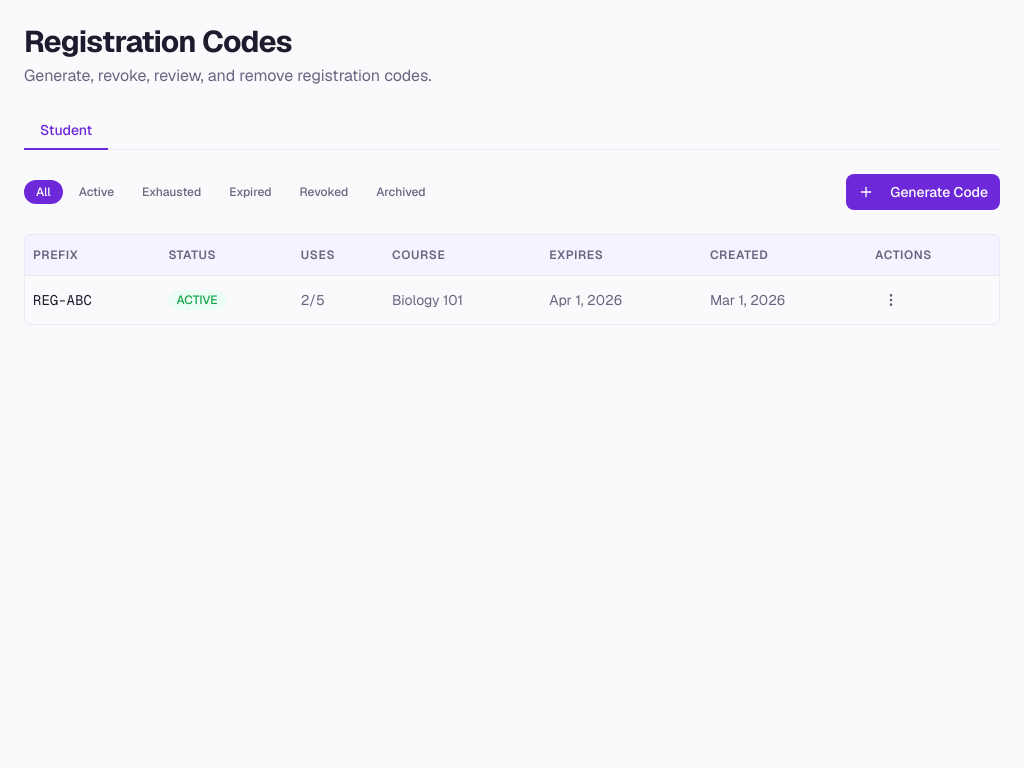
it: CodeManagementView › detail dialog opens with correct data
The width and height of the screenshot is (1024, 768).
Step 1. Click the 9th button → (891, 300), box [875,284,907,316]
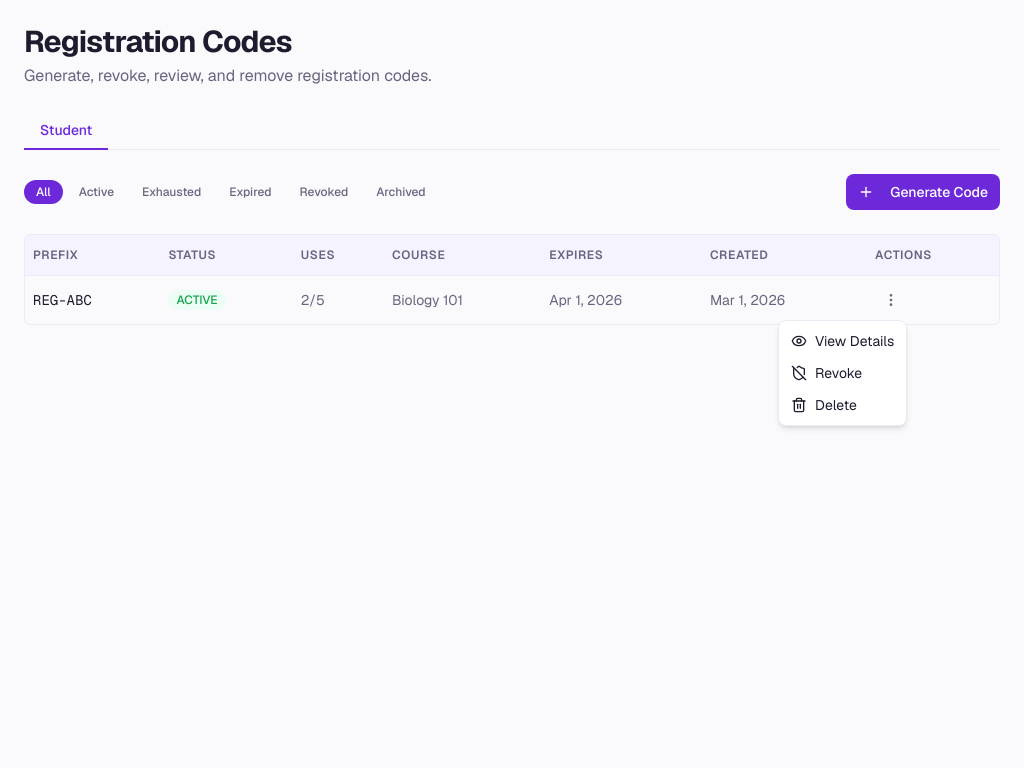
Step 2. Click the menu item "View Details" → (843, 341), box [791,332,894,350]
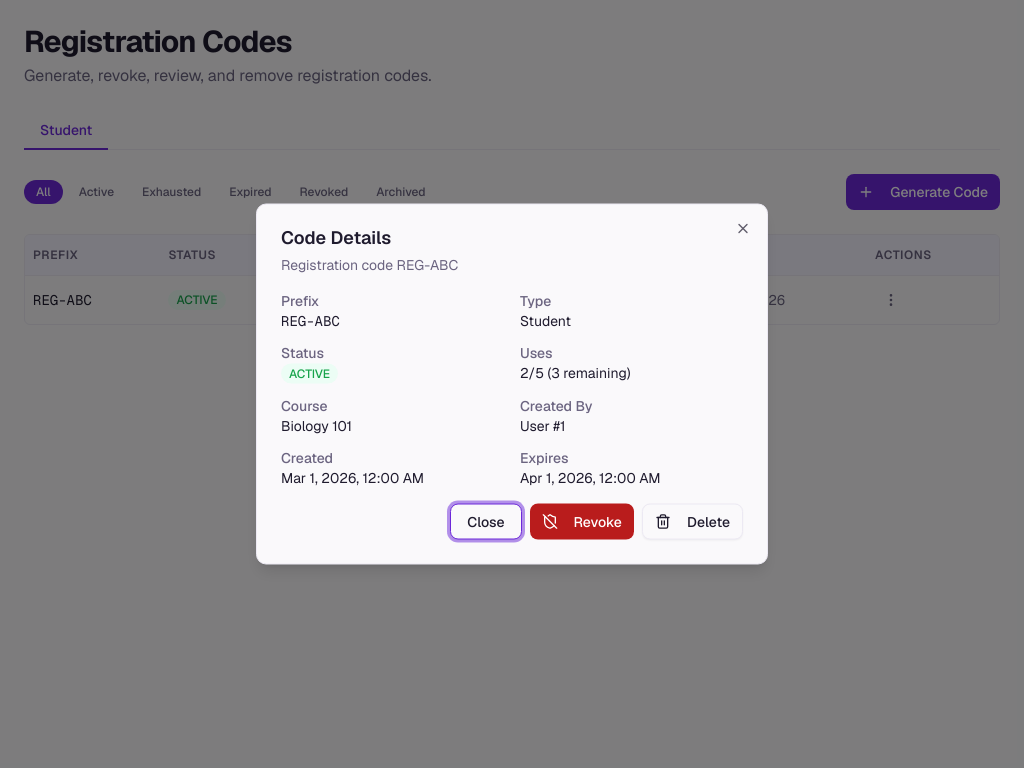
Result: the heading "Code Details" is shown at [281,226,391,248]
Result: the text "3 remaining" is shown at [520,364,631,382]
